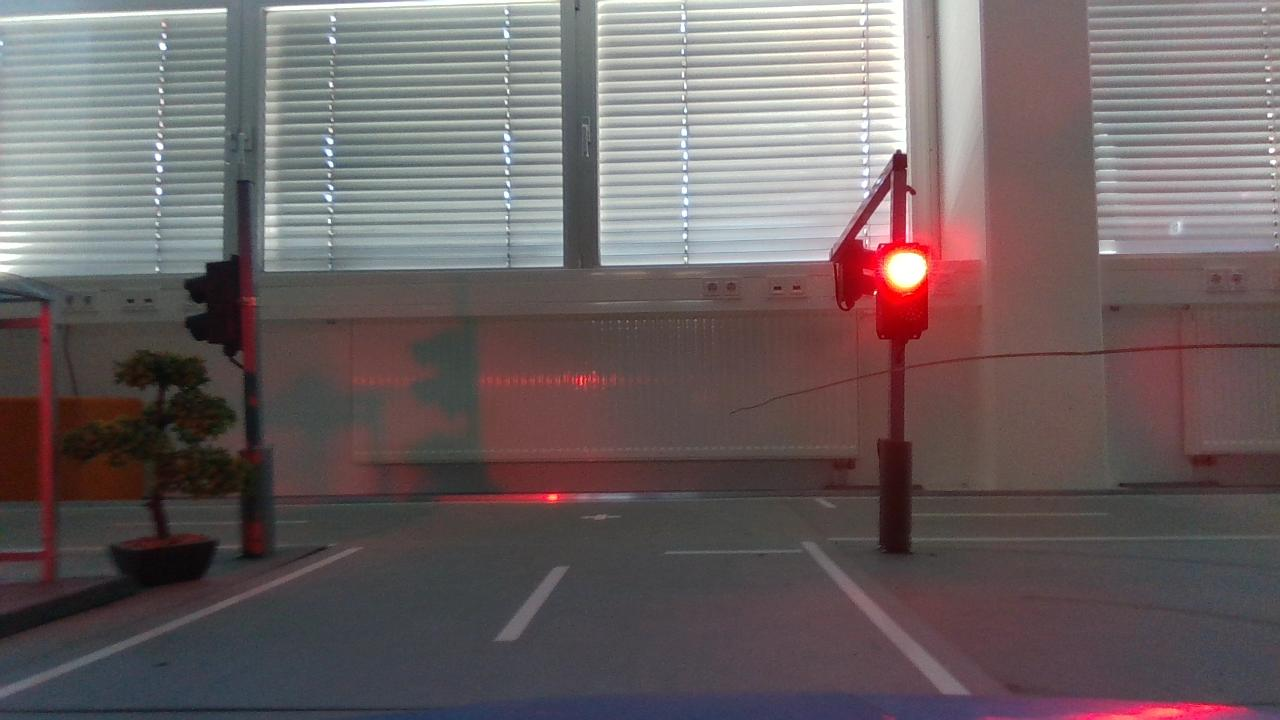traffic_light_red: (868, 236, 946, 355)
